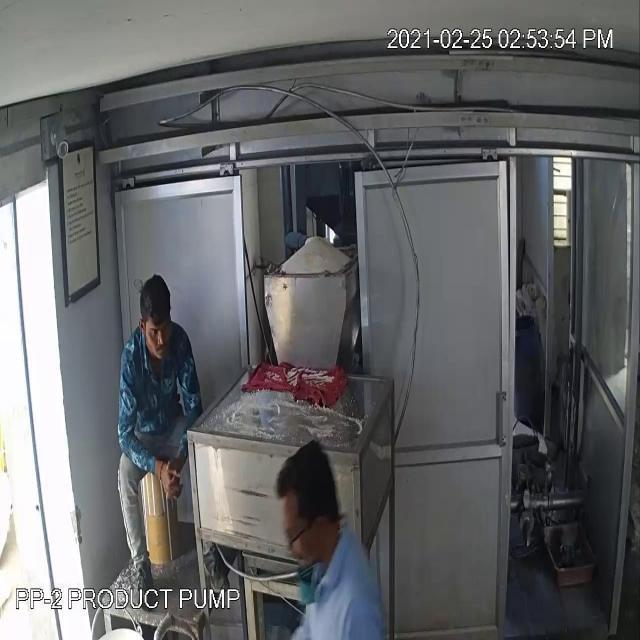no hat: (266, 439, 342, 537), (129, 269, 183, 335)
